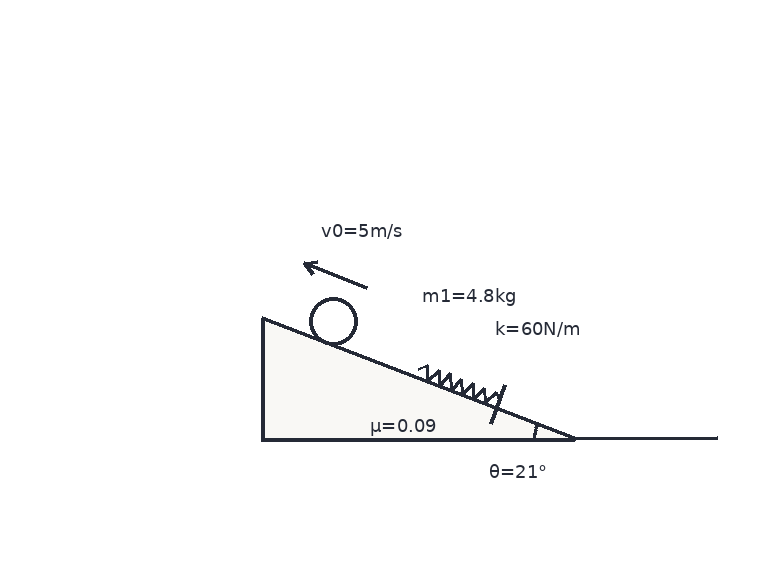ball: (307, 295, 359, 347)
ramp: (260, 317, 576, 441)
spring: (416, 363, 501, 405)
